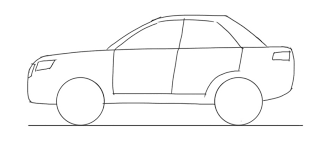car: (13, 5, 312, 129)
